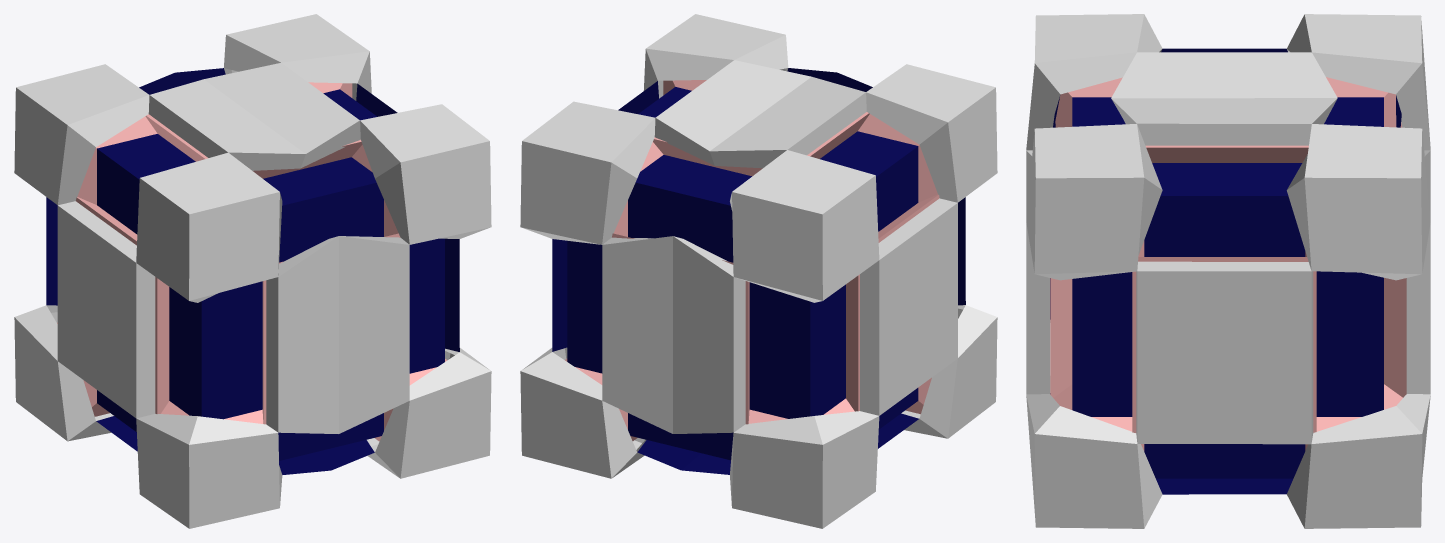
File: Tanker.fbx
3 renders of one model, left to right at view 1: azimuth 30°, elevation 25°; view 2: azimuth 150°, elevation 25°; view 3: azimuth 270°, elevation 25°, orthographic. The views are drawn at different scales.
Visible parts, largest first — view 1: Cube; view 2: Cube; view 3: Cube.
Boxes of the visible parts, bbox=[...] form: Cube: bbox=[14, 14, 491, 528]; Cube: bbox=[520, 14, 997, 528]; Cube: bbox=[1026, 14, 1430, 528].
Bounding box in the file's own units: 454 × 454 × 454.
